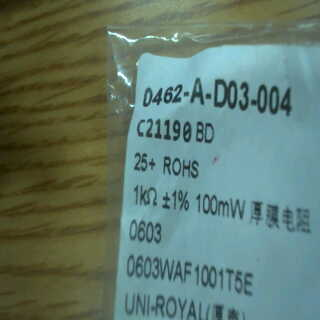1kR: (130, 181, 159, 211)
